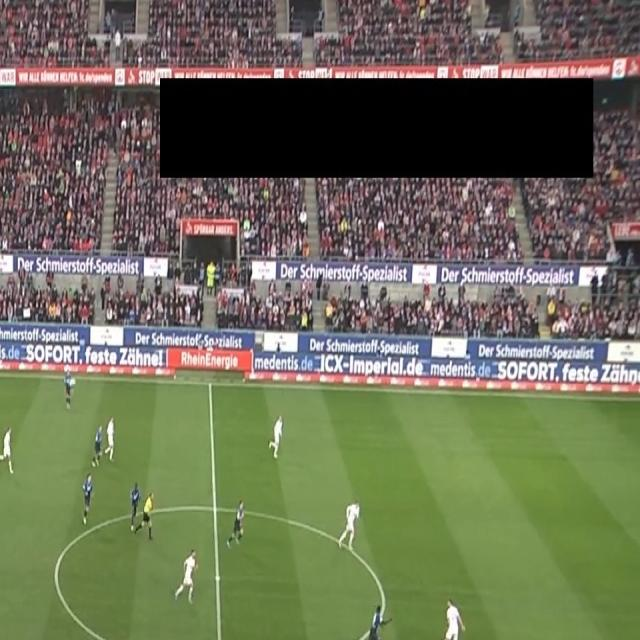ball: (69, 377, 76, 388)
